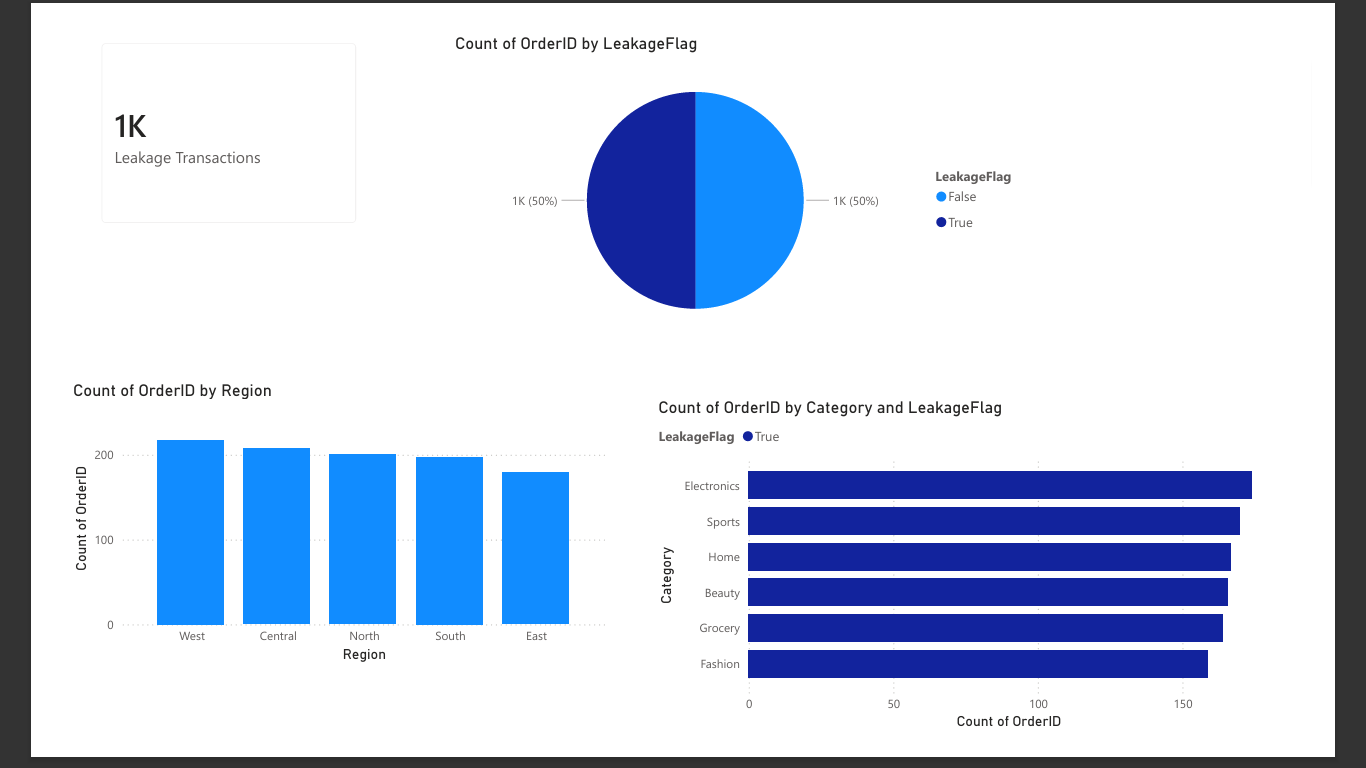

The page's visual inventory and layout, read from the dashboard file:
{"tool":"powerbi","page":{"name":"REVENUE LEAKAGE ANALYSIS","canvas":[1280,720],"ordinal":2},"visuals":[{"type":"pieChart","fields":{"Category":["clean_transactions.LeakageFlag"],"Y":["CountNonNull(clean_transactions.OrderID)"]},"box":[403.4,6.9,593.1,320.7],"z":0},{"type":"cardVisual","fields":{"Data":["clean_transactions.Leakage Transactions"]},"box":[31,0,293.1,217.2],"z":1},{"type":"clusteredColumnChart","fields":{"Category":["clean_transactions.Region"],"Y":["CountNonNull(clean_transactions.OrderID)"]},"box":[13.8,360.3,551.7,291.4],"z":2},{"type":"clusteredBarChart","fields":{"Y":["CountNonNull(clean_transactions.OrderID)"],"Category":["clean_transactions.Category"],"Series":["clean_transactions.LeakageFlag"]},"box":[610.3,377.6,641.4,343.1],"z":3}]}

Visuals, with their boxes in screenshot pixels (x1, y1, x2, y2), scaled from the page's 1280x720 canvas onto the 1366x768 screenshot:
pieChart - clean_transactions.LeakageFlag x CountNonNull(clean_transactions.OrderID): [431,7,1063,349]
cardVisual - clean_transactions.Leakage Transactions: [33,0,346,232]
clusteredColumnChart - clean_transactions.Region x CountNonNull(clean_transactions.OrderID): [15,384,603,695]
clusteredBarChart - CountNonNull(clean_transactions.OrderID) x clean_transactions.Category: [651,403,1336,767]
